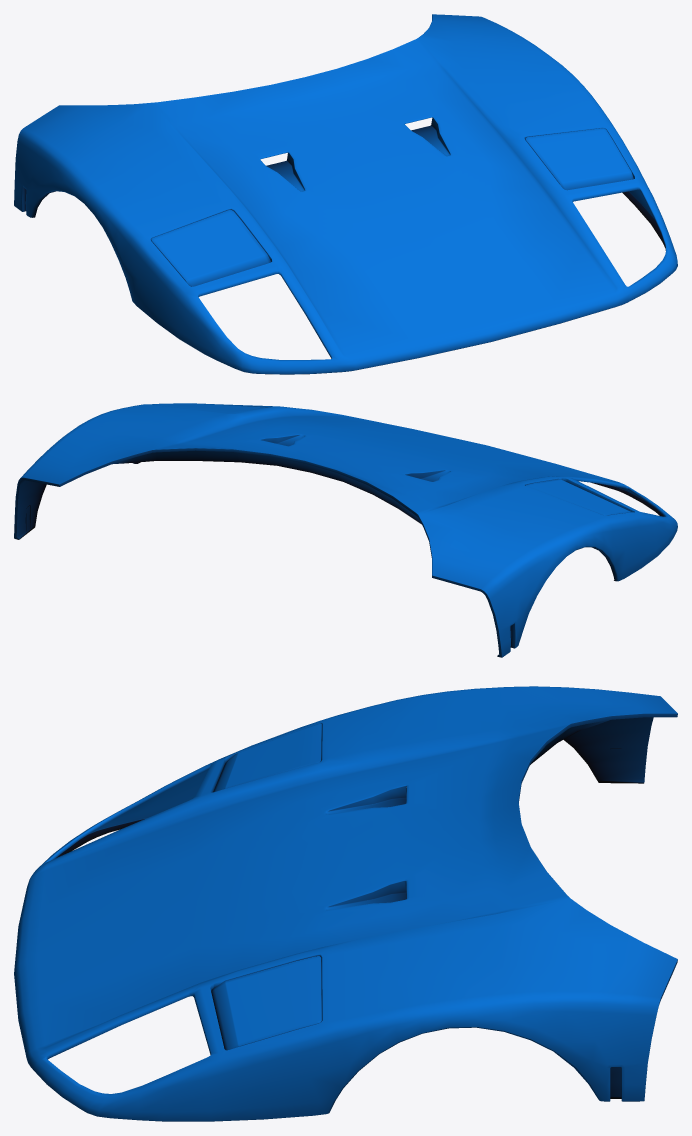
Rendered from F40_Hood_Duco.fbx.
3 renders of one model, top to bottom at view 1: azimuth 30°, elevation 25°; view 2: azimuth 150°, elevation 25°; view 3: azimuth 270°, elevation 25°, orthographic. The views are drawn at different scales.
Visible parts, largest first — view 1: F40_Hood_Duco; view 2: F40_Hood_Duco; view 3: F40_Hood_Duco.
Boxes of the visible parts, bbox=[...] form: F40_Hood_Duco: bbox=[14, 14, 677, 374]; F40_Hood_Duco: bbox=[14, 403, 677, 657]; F40_Hood_Duco: bbox=[14, 686, 677, 1121].
Bounding box in the file's own units: 182 × 45.25 × 157.
